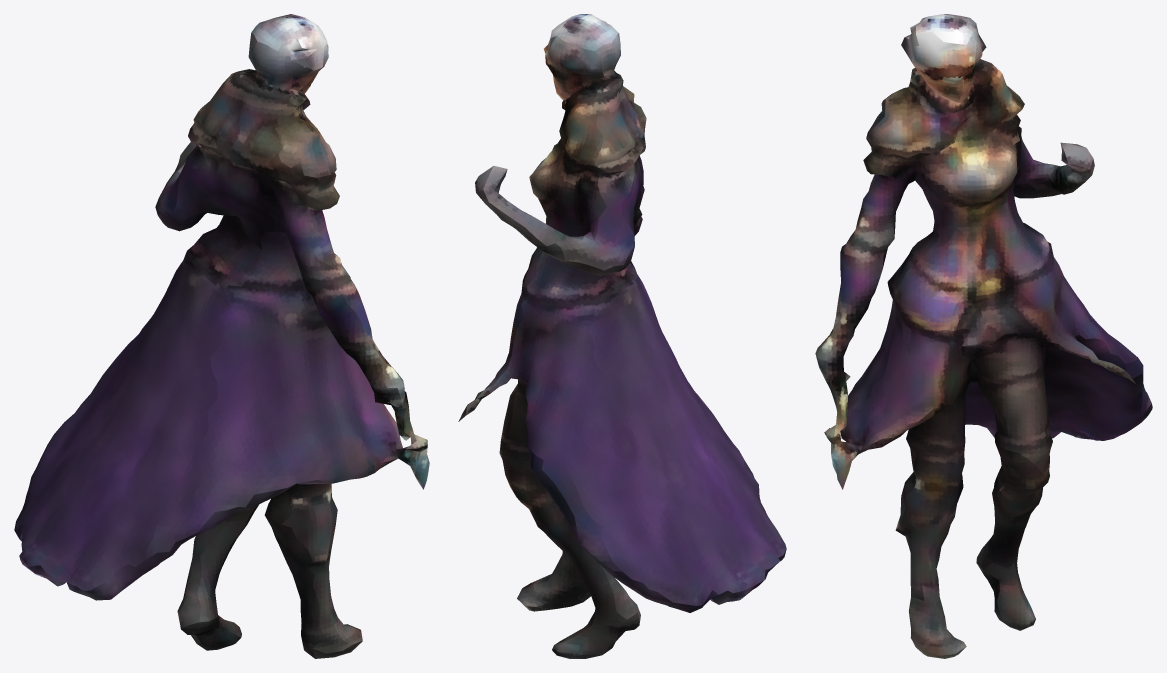
The model's file is tessera.glb.
The picture shows the model from 3 angles, left to right: view 1: azimuth 30°, elevation 25°; view 2: azimuth 150°, elevation 25°; view 3: azimuth 270°, elevation 25°; orthographic projection. The views are drawn at different scales.
Parts seen in each view (by area): view 1: tessera; view 2: tessera; view 3: tessera.
Part boxes in pixels (x1=…): tessera: x1=14, y1=14, x2=429, y2=658; tessera: x1=458, y1=14, x2=786, y2=658; tessera: x1=815, y1=14, x2=1152, y2=658.
Bounding box in the file's own units: 1.11 × 2.2 × 1.08.
Materials: 1 (1 with a texture image).
